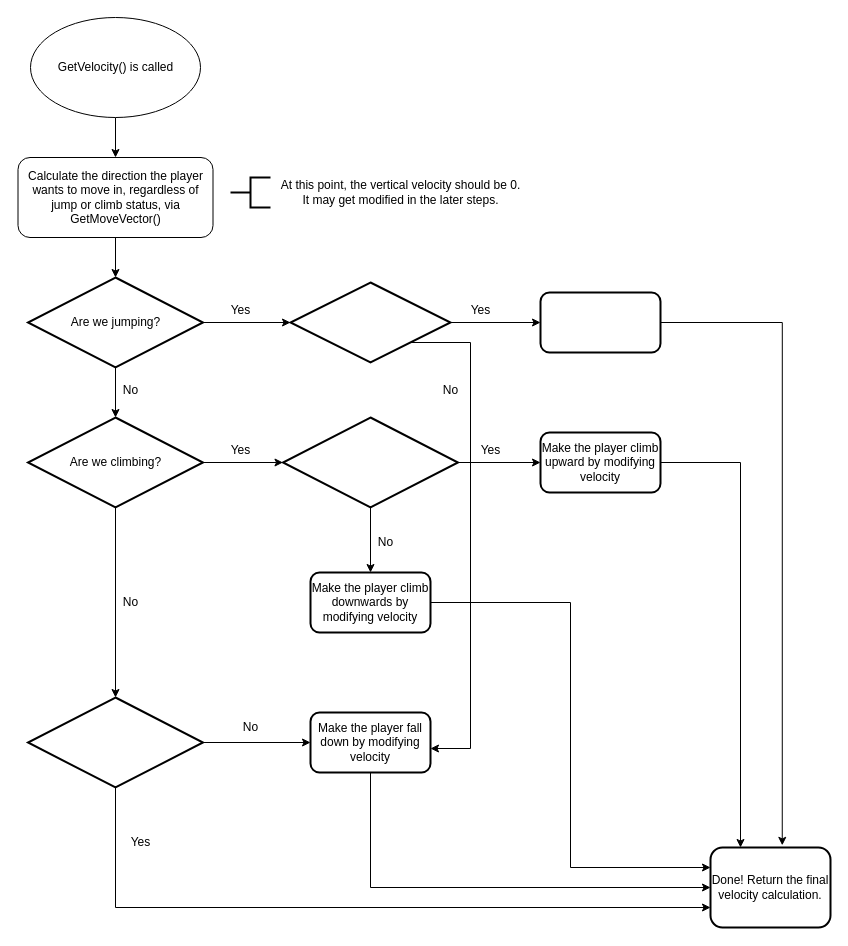
This 848x946 diagram has some shape labels left out. Each missing label, with the centre of its shape:
"Are we on the floor or climbing?" goes at pixel 370 322.
"Are we on the floor?" goes at pixel 115 742.
"Give the player a jump boost by modifying velocity" goes at pixel 600 322.
"Is the movement direction towards the ladder?" goes at pixel 370 462.
